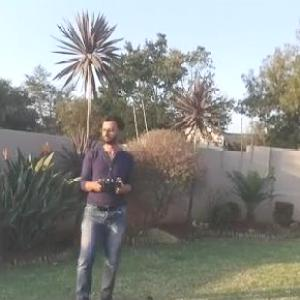follow: (68, 112, 132, 299)
